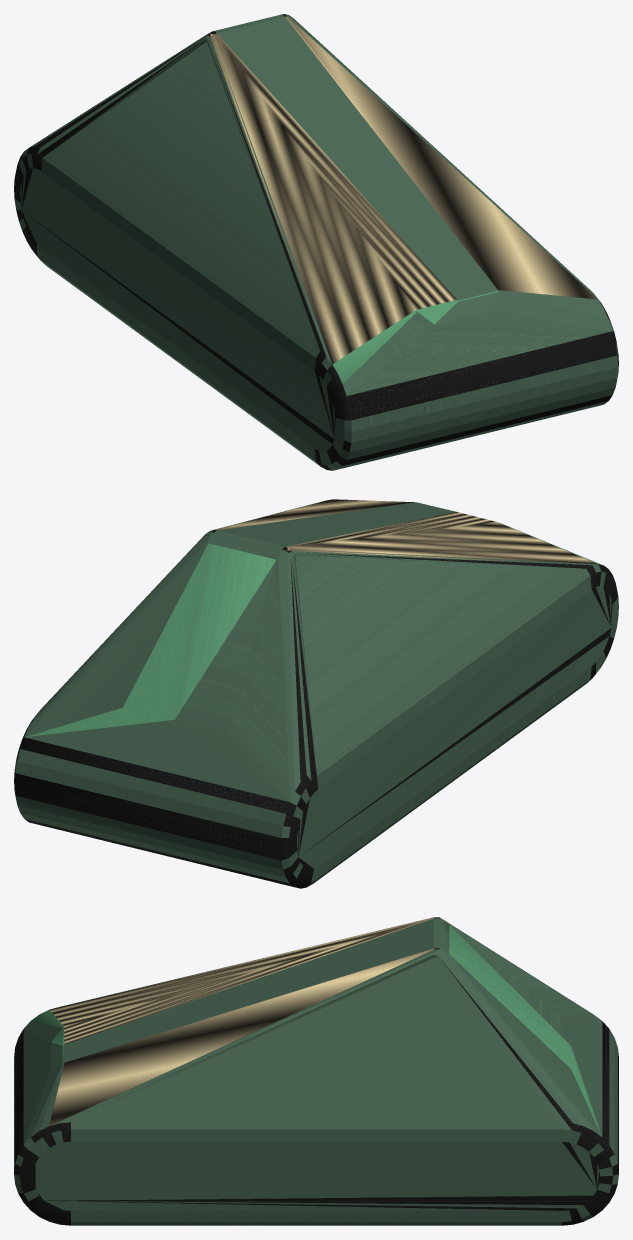
File: buggy.glb.hull.glb
3 renders of one model, top to bottom at view 1: azimuth 30°, elevation 25°; view 2: azimuth 150°, elevation 25°; view 3: azimuth 270°, elevation 25°, orthographic. The views are drawn at different scales.
Visible parts, largest first — view 1: Cube; view 2: Cube; view 3: Cube.
Part boxes in pixels (bbox=[...]): Cube: bbox=[14, 14, 618, 470]; Cube: bbox=[14, 499, 618, 888]; Cube: bbox=[14, 917, 618, 1225].
Bounding box in the file's own units: 7.92 × 7.13 × 16.71.
4 materials, 4 textured.
